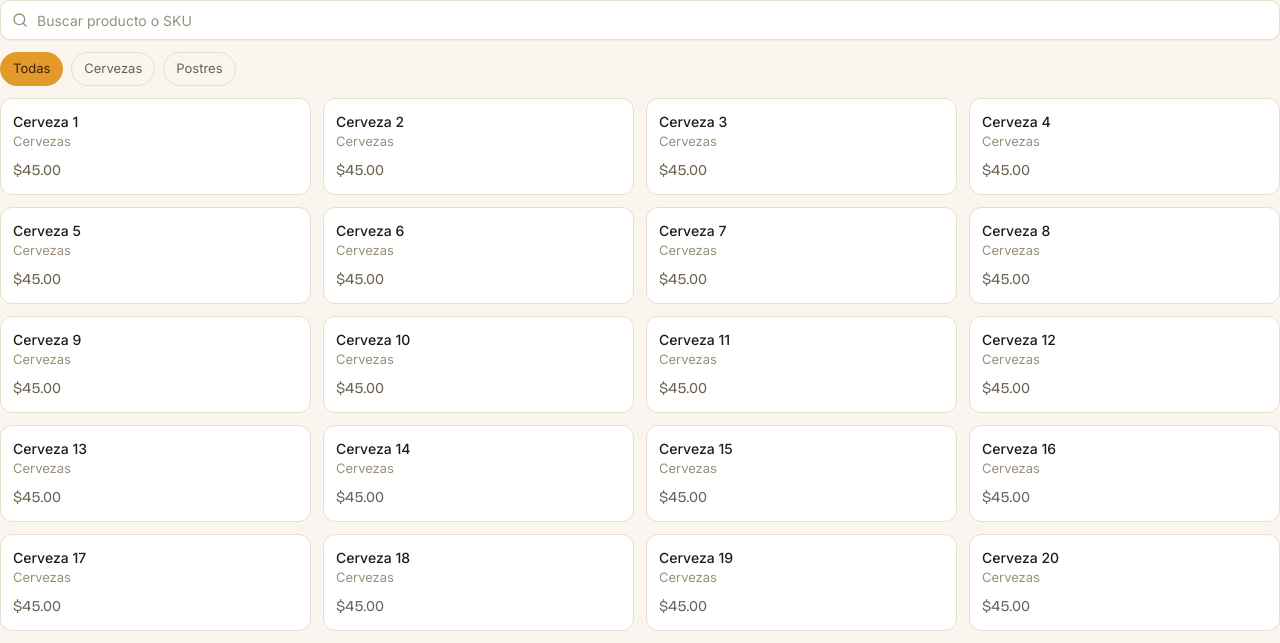
Scenario: ProductoPicker › busca sin acentos y por SKU, ignorando la categoría activa
# Con "Cervezas" activa, buscar el postre igual lo encuentra.
Click the button "Cervezas" at (113, 69), box [71, 52, 155, 86]
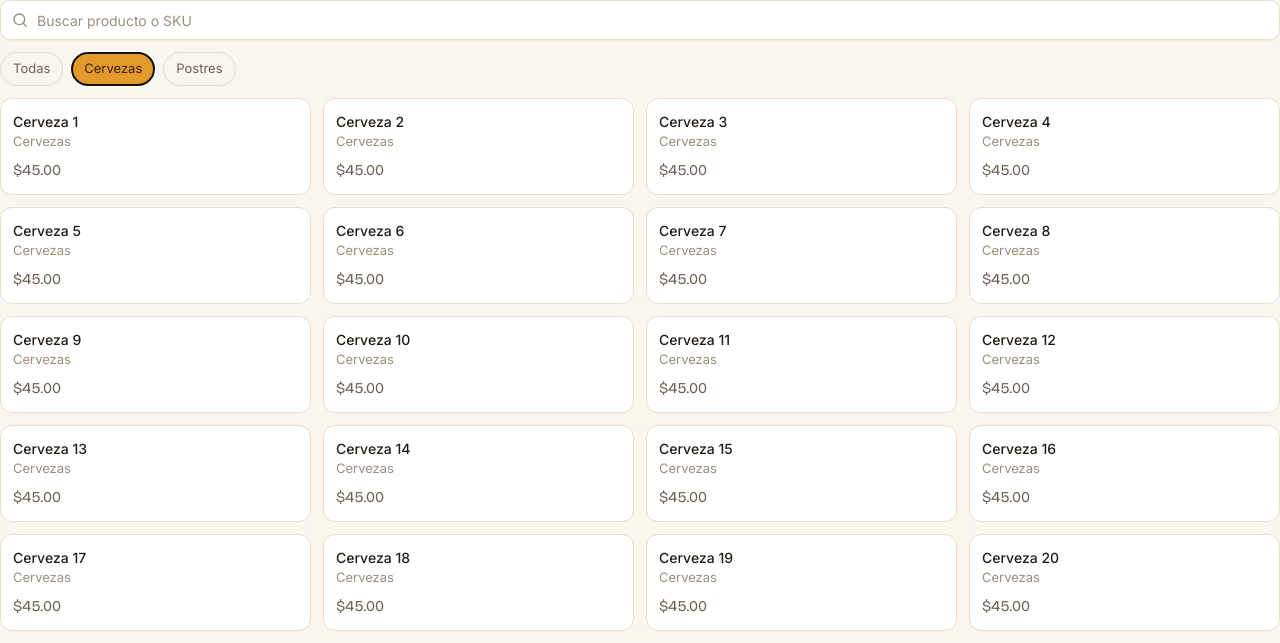
Type "NAPOLITANO" into the field labelled "Buscar producto" at (640, 20), box [0, 0, 1279, 40]
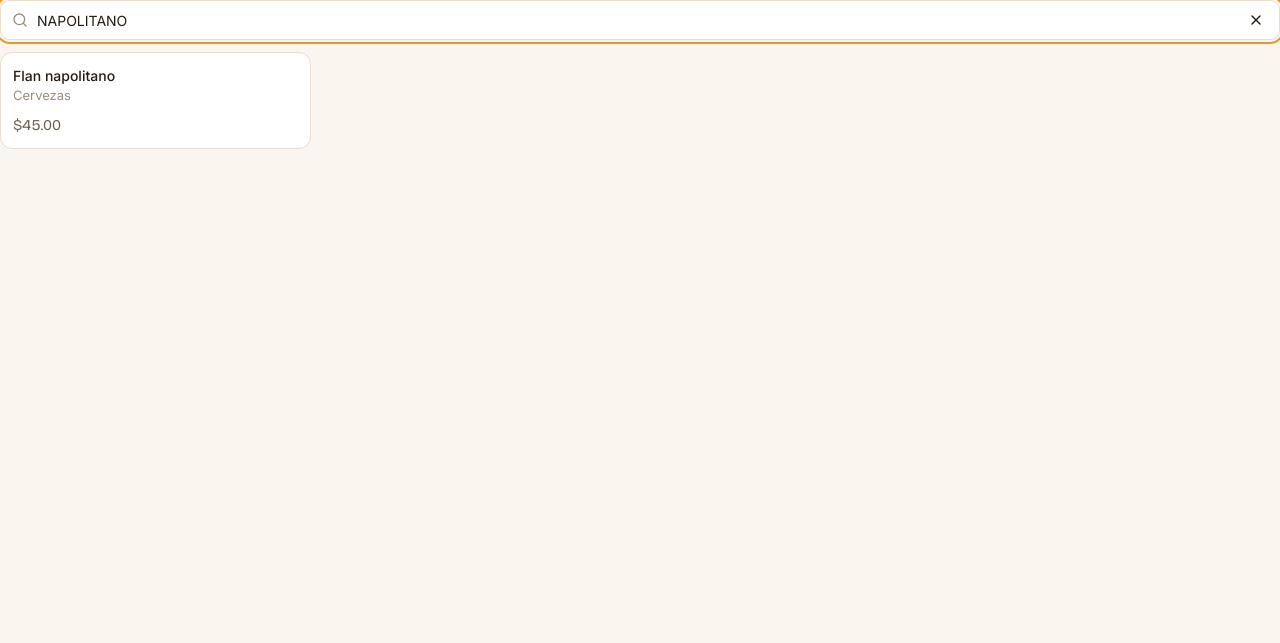
Expected: the text "Flan napolitano" is shown, [13, 65, 115, 86]
Expected: the button "Cerveza 1" is gone
